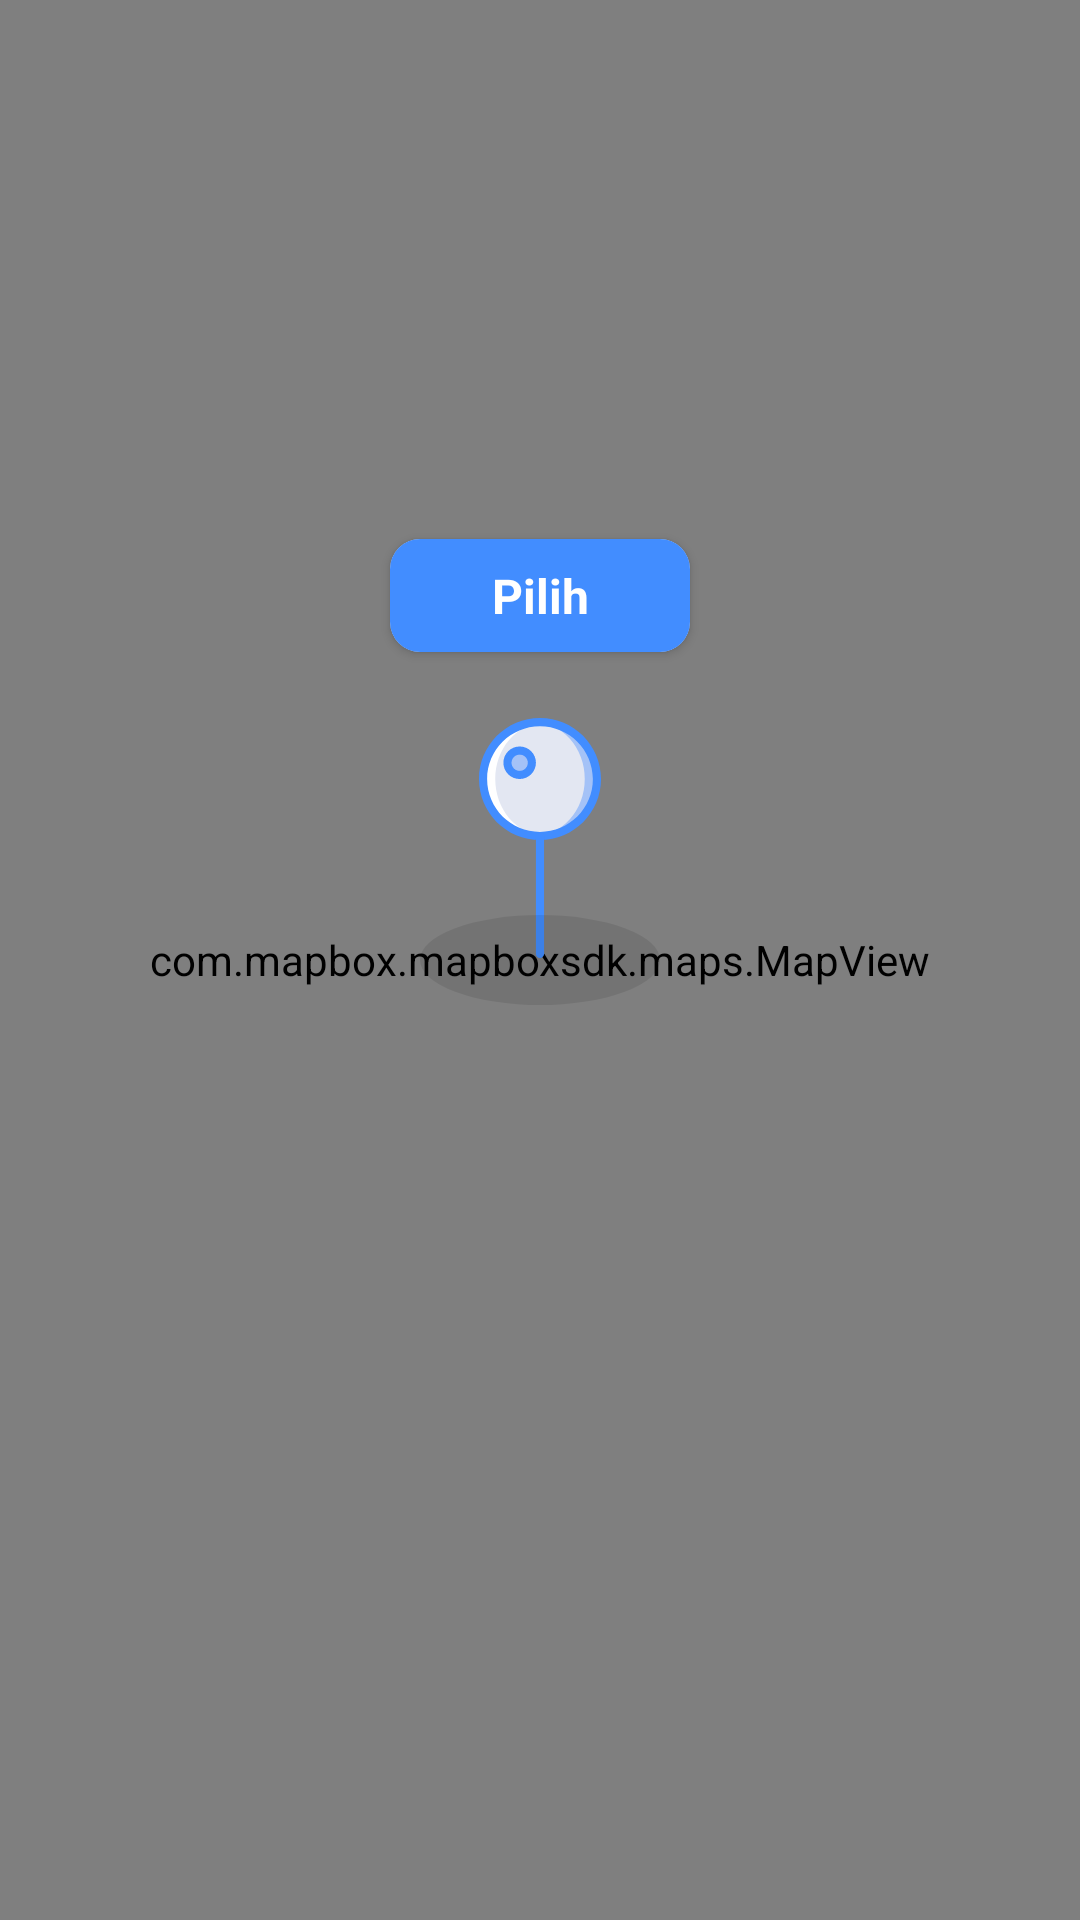

Named icons in this screenshot (1080px×1920px) and their centers, [x,y]:
pin: [540,838]
